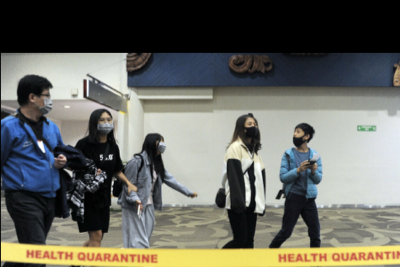mask_weared_incorrect: (292, 128, 305, 146)
with_mask: (33, 88, 52, 115), (96, 115, 114, 135), (243, 120, 258, 139), (156, 137, 166, 156)
